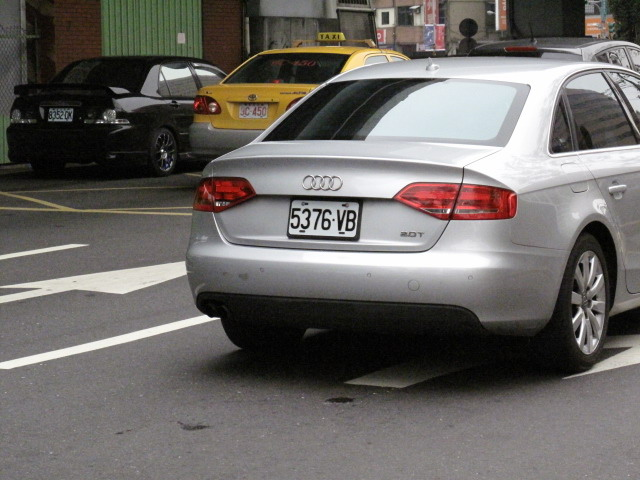plate: (287, 195, 362, 243), (238, 101, 269, 120), (46, 105, 76, 124)
